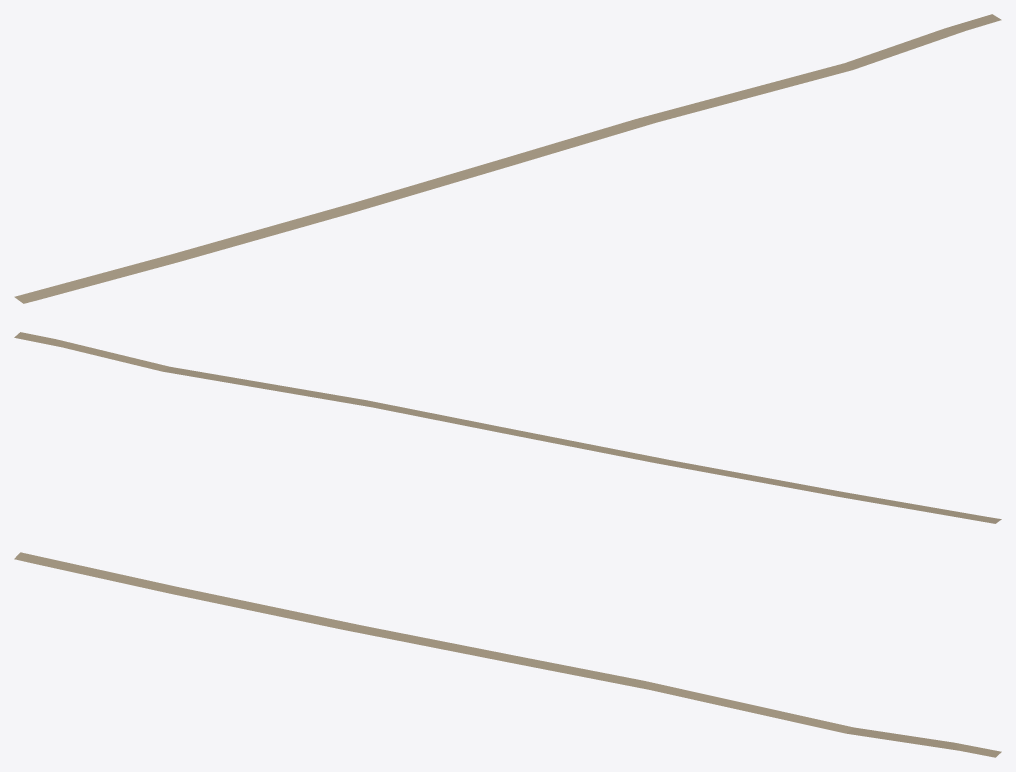
Rendered from farm_-9_9_track.glb.
The picture shows the model from 3 angles, top to bottom: view 1: azimuth 30°, elevation 25°; view 2: azimuth 150°, elevation 25°; view 3: azimuth 330°, elevation 25°; orthographic projection. The views are drawn at different scales.
Parts seen in each view (by area): view 1: geometry_0; view 2: geometry_0; view 3: geometry_0.
Part boxes in pixels (x1,y1,x2,y2): geometry_0: (14, 14, 1001, 303); geometry_0: (14, 332, 1001, 523); geometry_0: (14, 552, 1001, 757).
Bounding box in the file's own units: 233 × 2.88 × 23.86.
